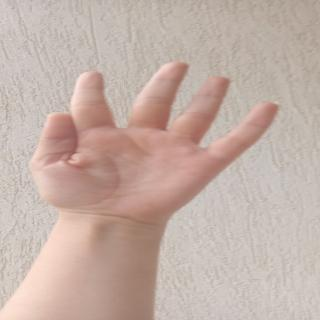SHEEN: (33, 54, 278, 213)
